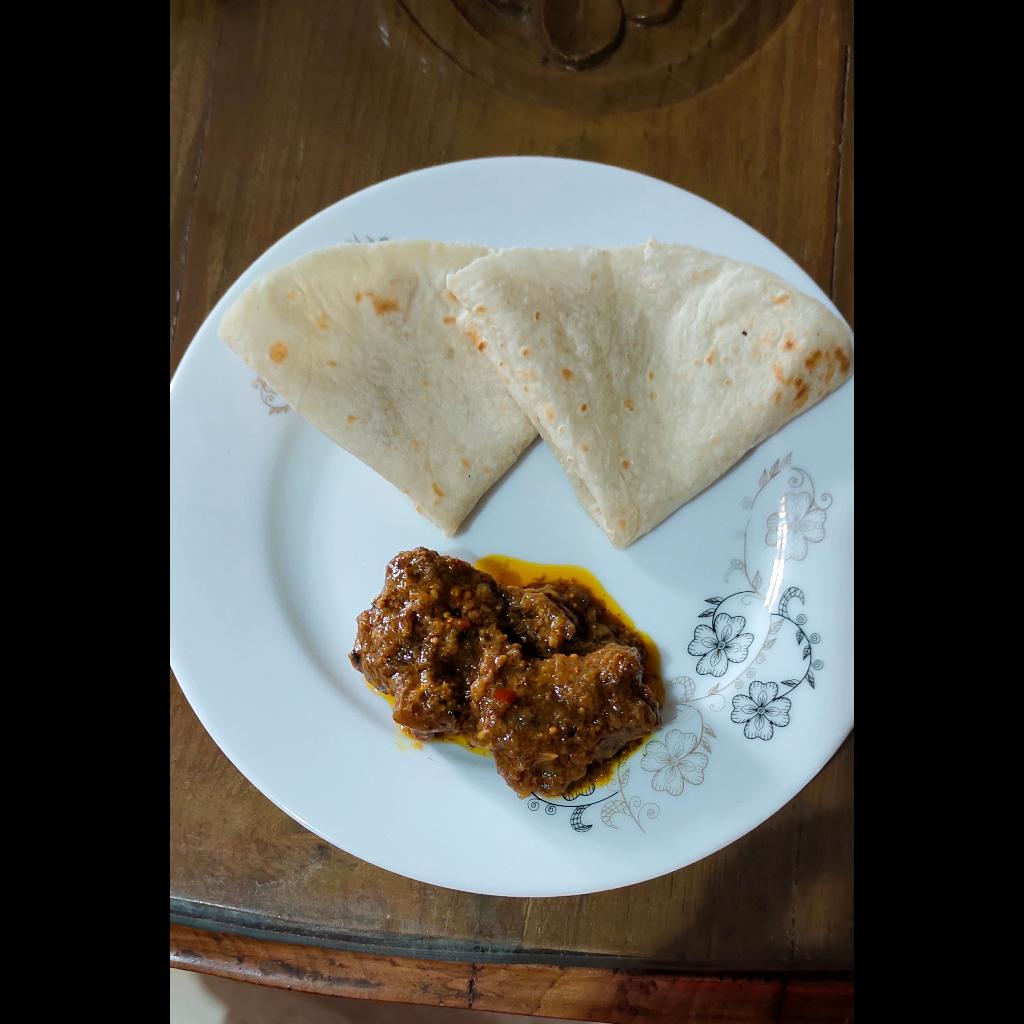beef: (348, 544, 667, 793)
ruti: (219, 240, 854, 549)
